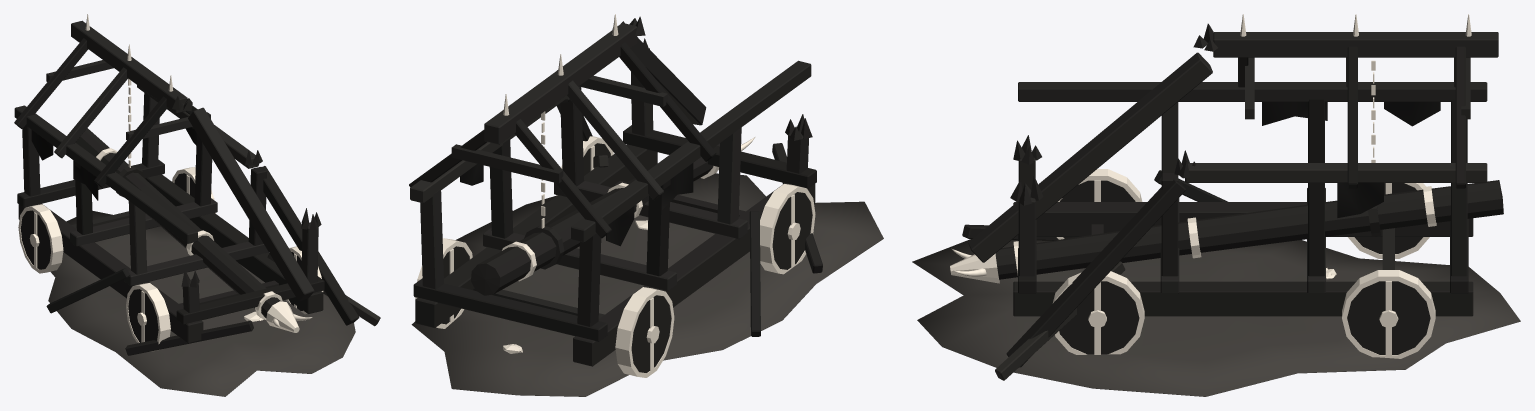
File: SM_VKI_Prop_Siege_Ram_Burnt.fbx
3 renders of one model, left to right at view 1: azimuth 30°, elevation 25°; view 2: azimuth 150°, elevation 25°; view 3: azimuth 270°, elevation 25°, orthographic. The views are drawn at different scales.
Visible parts, largest first — view 1: SM_VKI_Prop_Siege_Ram_Burnt.001; view 2: SM_VKI_Prop_Siege_Ram_Burnt.001; view 3: SM_VKI_Prop_Siege_Ram_Burnt.001.
Part boxes in pixels (x1,y1,x2,y2): SM_VKI_Prop_Siege_Ram_Burnt.001: [14, 14, 380, 396]; SM_VKI_Prop_Siege_Ram_Burnt.001: [409, 14, 883, 396]; SM_VKI_Prop_Siege_Ram_Burnt.001: [912, 14, 1520, 396].
Size of the model in its own units: 4.23 by 3.44 by 6.48.
